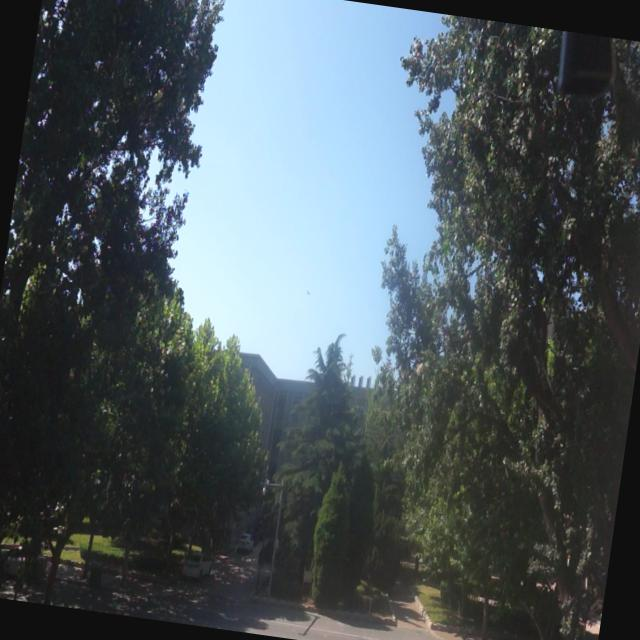drone: (304, 286, 312, 298)
